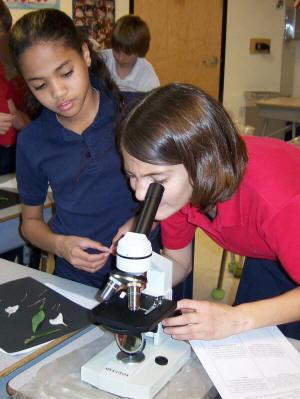person: (115, 82, 300, 342)
